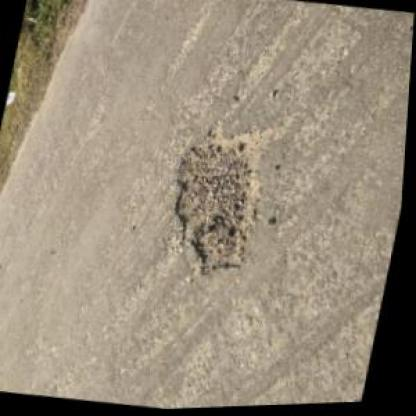pothole: (158, 113, 277, 284)
